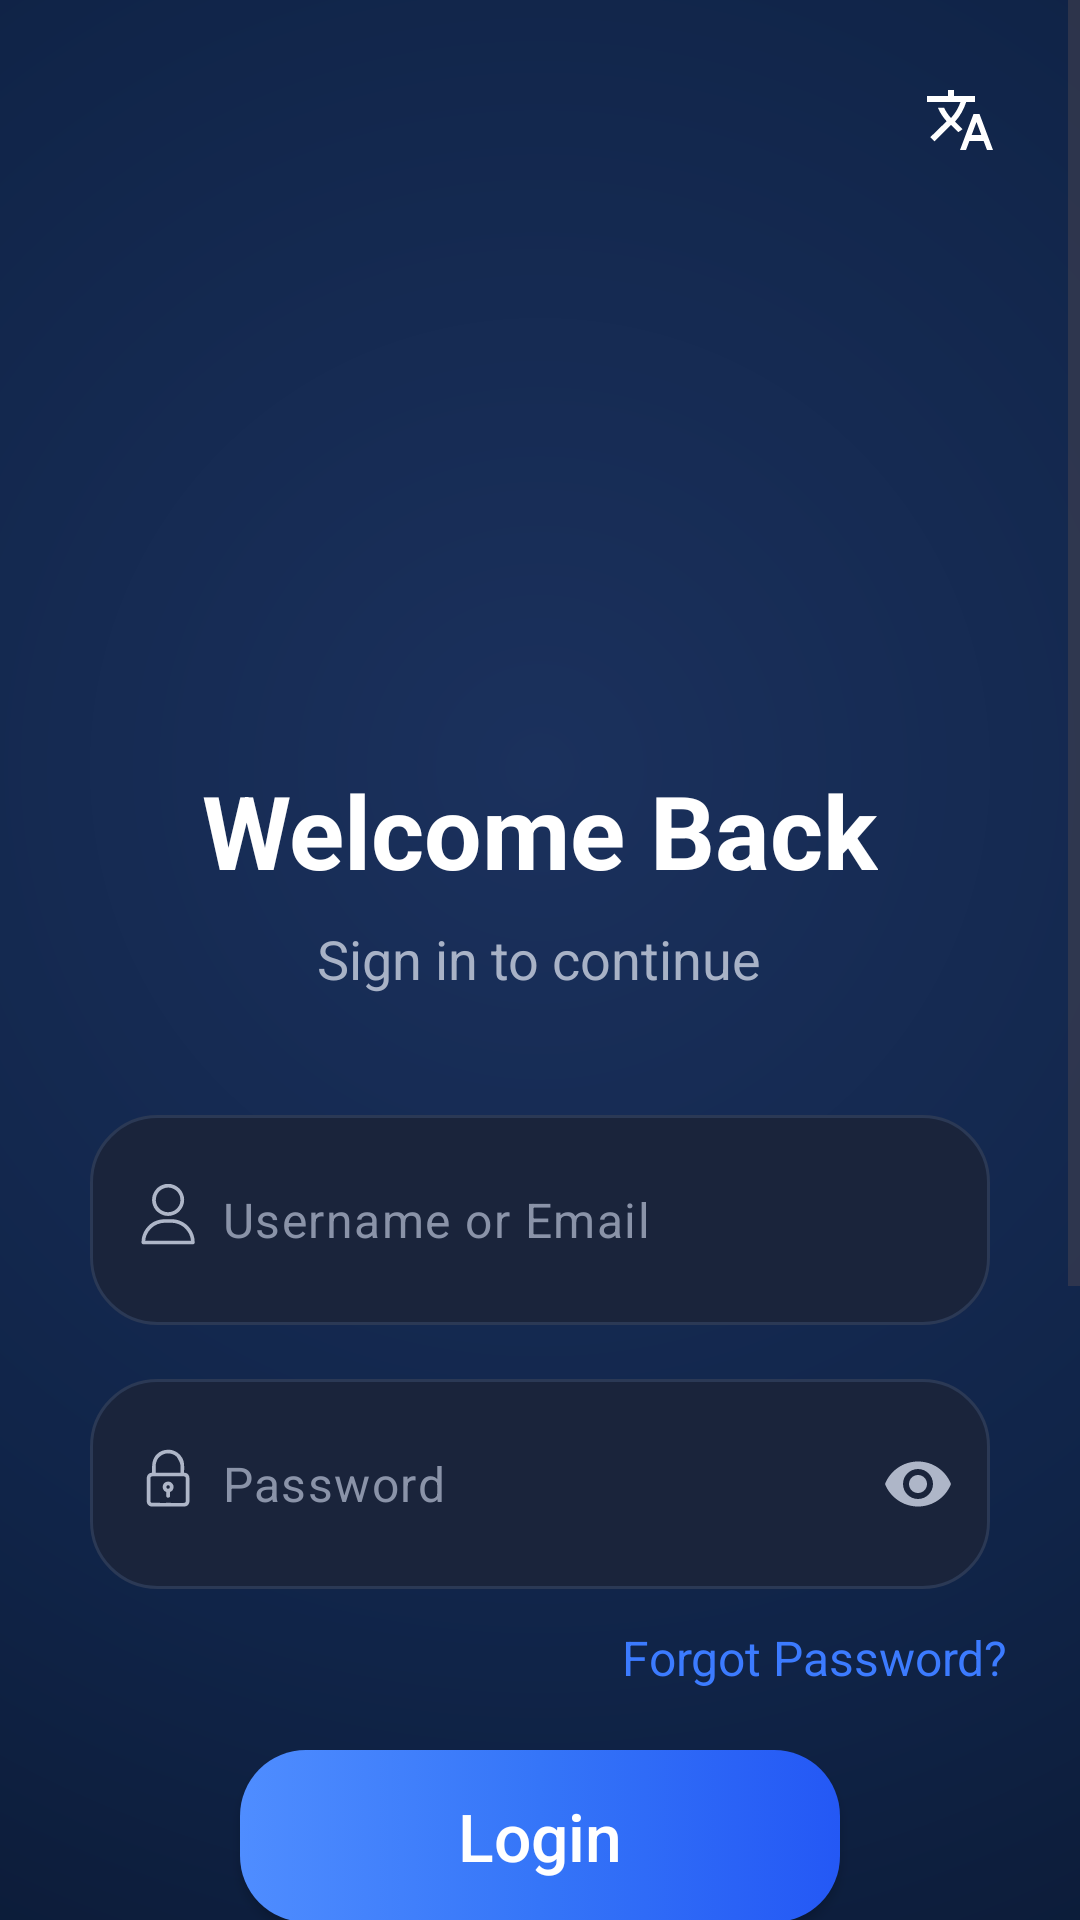

Icons on this 1080px x 1920px Android screen, each with the point to tap as (x,y):
Change Language: (960,120)
